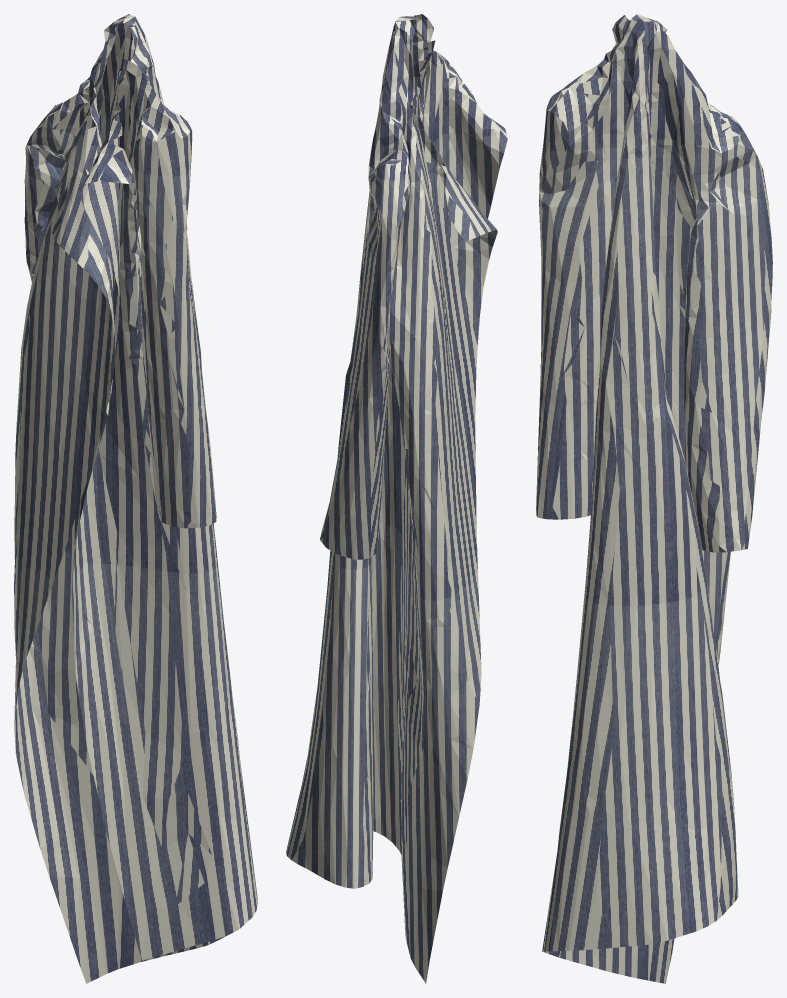
Rendered from Clothes.FBX.
3 views of the same model, side by side, from view 1: azimuth 30°, elevation 25°; view 2: azimuth 150°, elevation 25°; view 3: azimuth 270°, elevation 25° (orthographic). The views are drawn at different scales.
Visible parts, largest first — view 1: clothes; view 2: clothes; view 3: clothes.
Part boxes in pixels (x1,y1,x2,y2): clothes: [14, 14, 257, 983]; clothes: [286, 14, 507, 983]; clothes: [536, 14, 772, 983].
Bounding box in the file's own units: 282 × 291 × 1333.
Materials: 1 (1 with a texture image).
